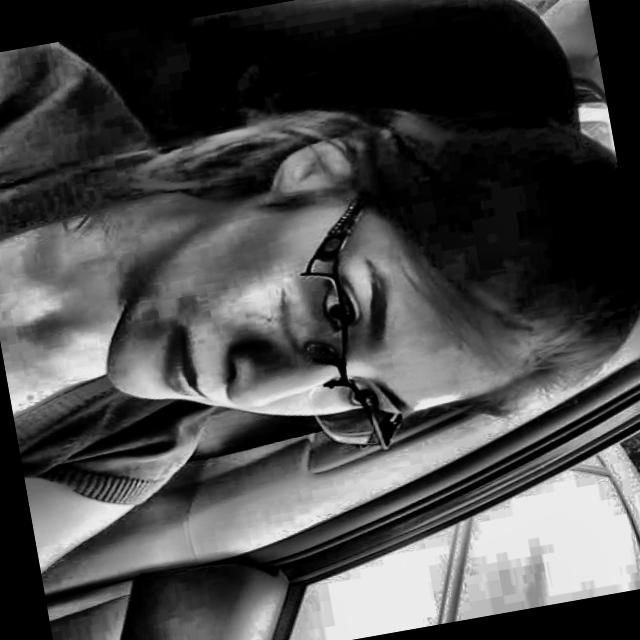closed_mouth: (124, 309, 215, 417)
open_eyes: (290, 266, 364, 342), (320, 369, 388, 432)
